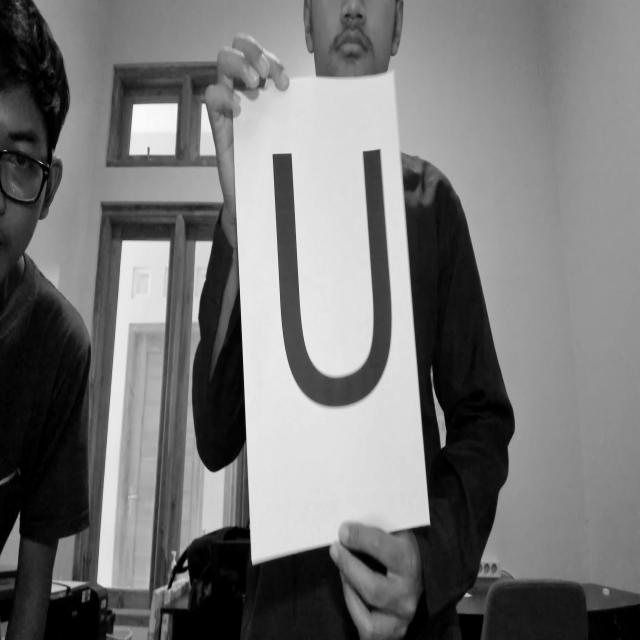u: (268, 123, 408, 441)
